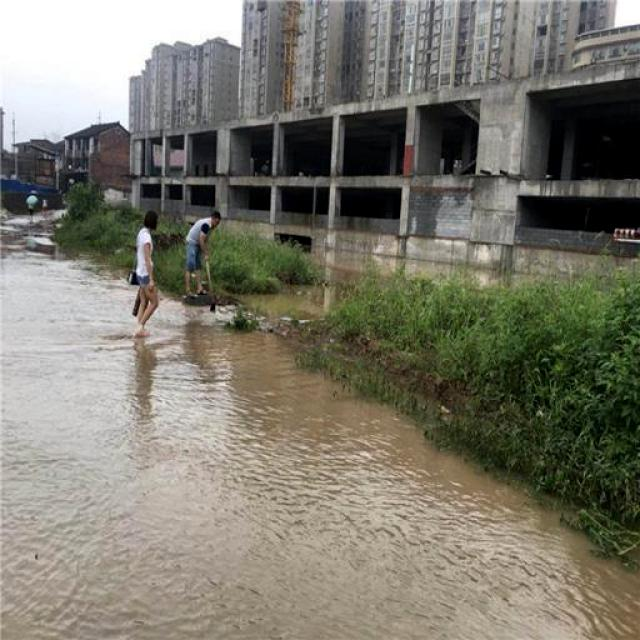civilian: (171, 202, 226, 311), (128, 201, 161, 342), (39, 194, 51, 223), (25, 197, 35, 226)
